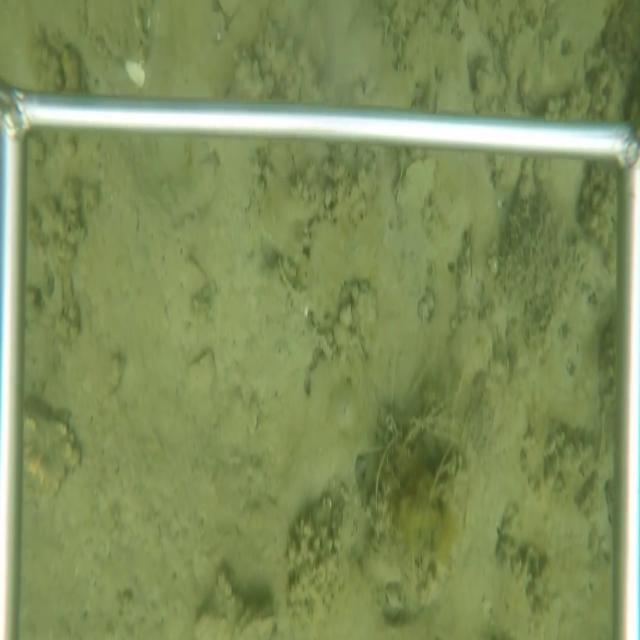Oyster-Indeterminate: (392, 151, 441, 215)
